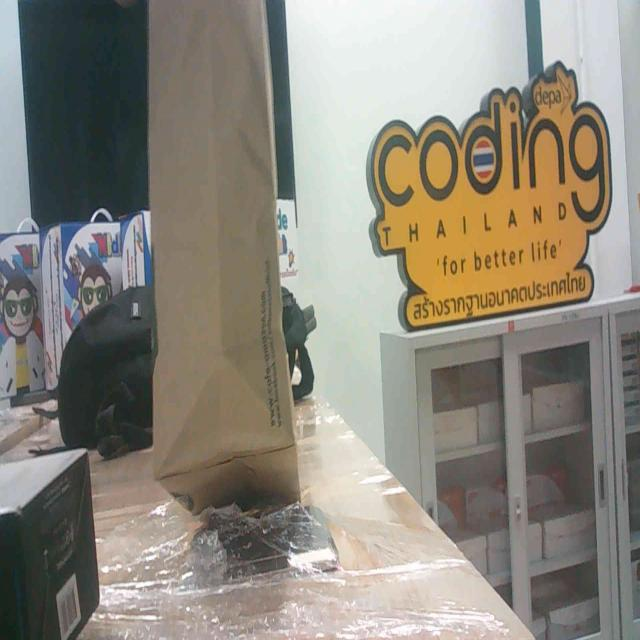bag: (127, 0, 315, 484)
